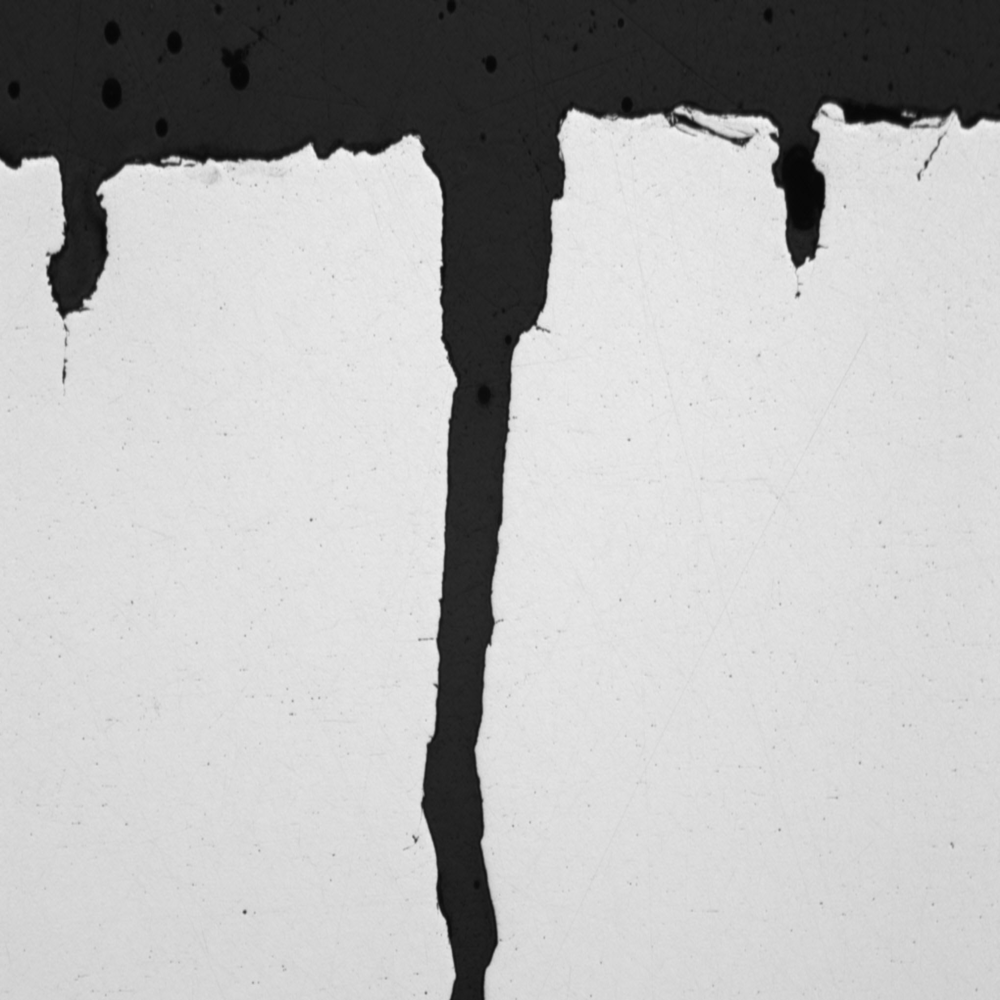crack: (383, 95, 553, 1000), (33, 144, 135, 392), (756, 102, 848, 303)
